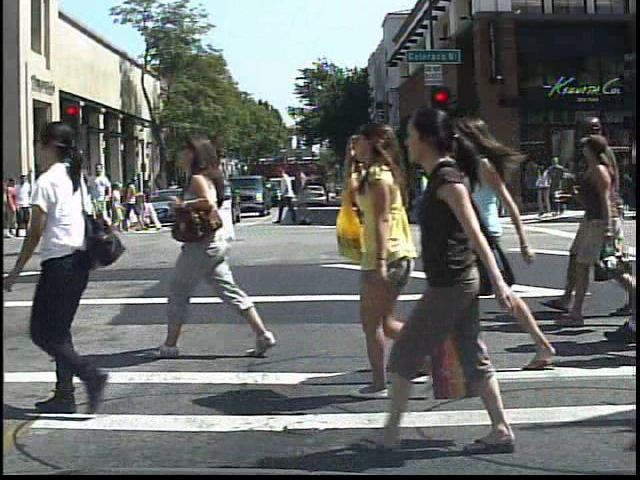person: (371, 100, 536, 461), (4, 116, 127, 434), (438, 106, 566, 379), (140, 117, 276, 363), (344, 118, 424, 395), (84, 160, 115, 239), (485, 153, 517, 226), (39, 165, 67, 239), (14, 171, 30, 242), (102, 177, 122, 216), (164, 175, 183, 211)
